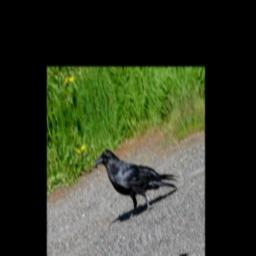Crow: (92, 120, 184, 234)
